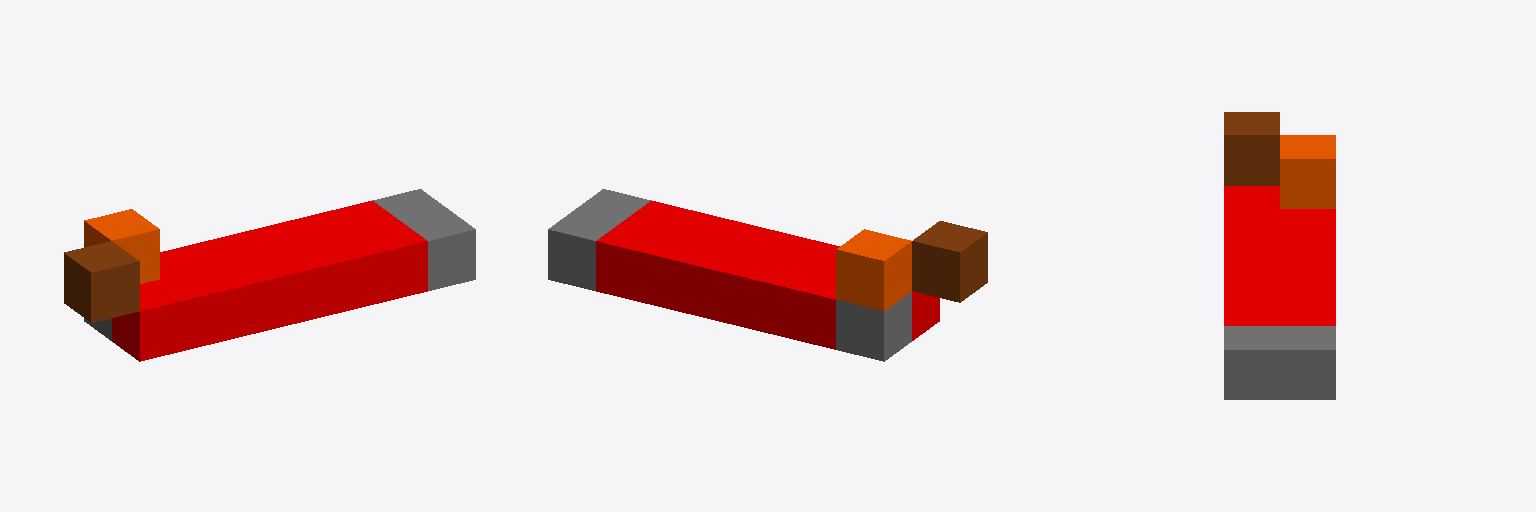
Rendered from state_preparation.obj.
The picture shows the model from 3 angles: view 1: azimuth 30°, elevation 25°; view 2: azimuth 150°, elevation 25°; view 3: azimuth 270°, elevation 25°; orthographic projection.
Size of the model in its own units: 8 by 2 by 2.